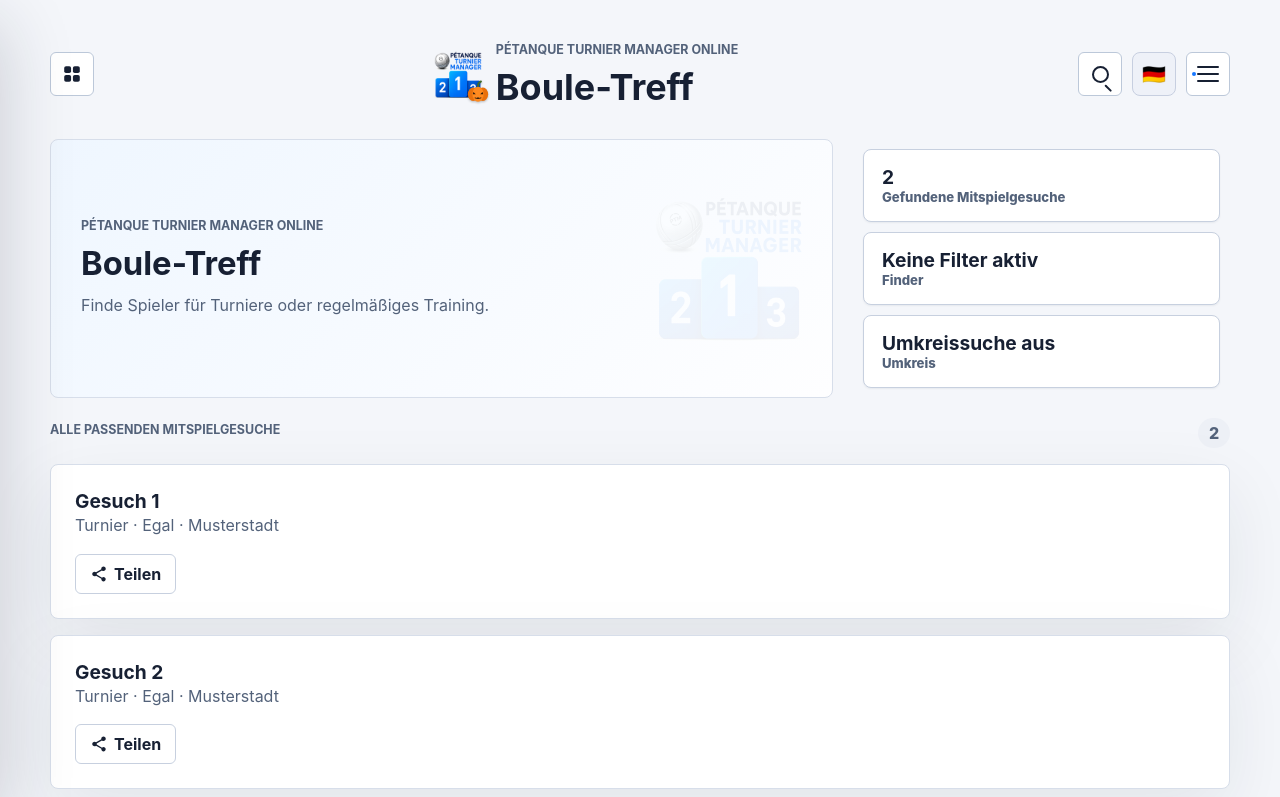
Test: Boule-Treff: Anzeige teilen › kopiert ohne Teilen-Dialog Überschrift und Link und meldet das in der Karte
The width and height of the screenshot is (1280, 797).
Click the button "Teilen" below "Gesuch 1" at [126, 574], box [75, 554, 176, 594]
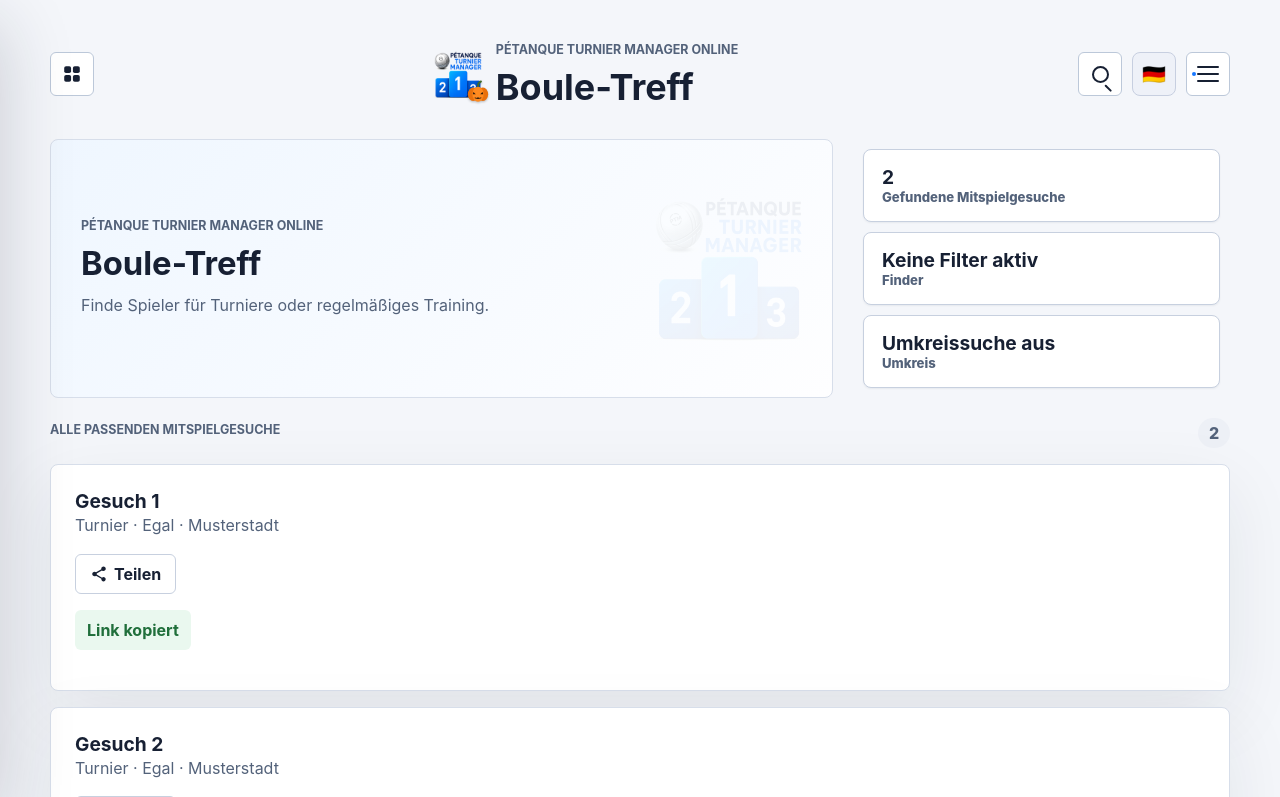
Now the text "Link kopiert" is shown, box [75, 610, 191, 650]
